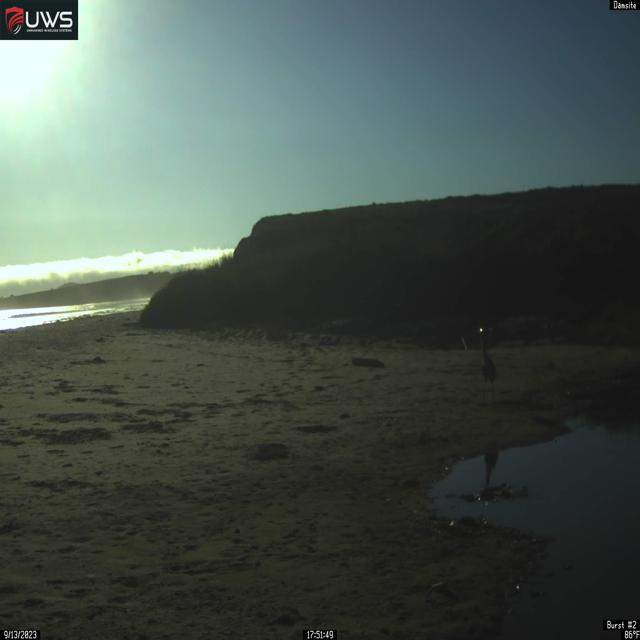bird: (477, 325, 497, 407)
